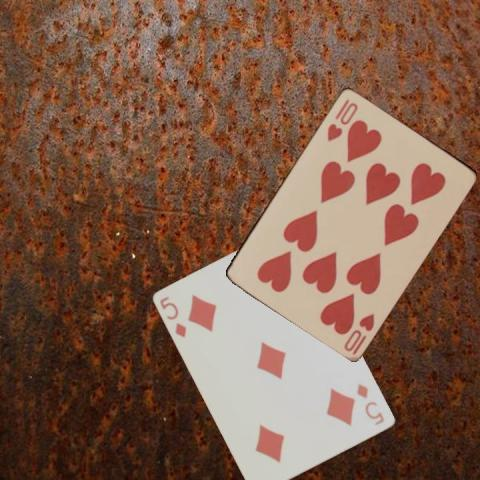10h: (324, 95, 360, 142), (341, 310, 376, 356)
5d: (354, 380, 386, 427), (156, 294, 188, 340)
